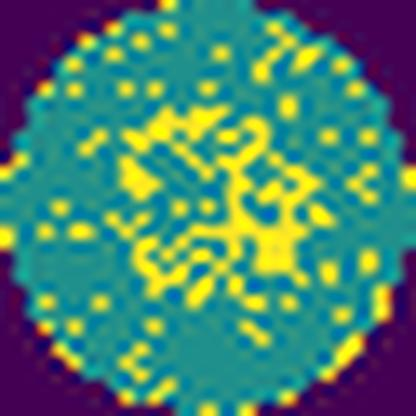Donut: (93, 96, 336, 311)
